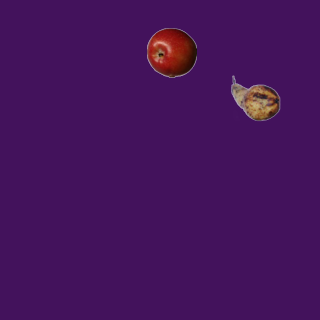Apple Braeburn: (146, 27, 196, 77)
Pear Abate: (230, 73, 280, 123)
